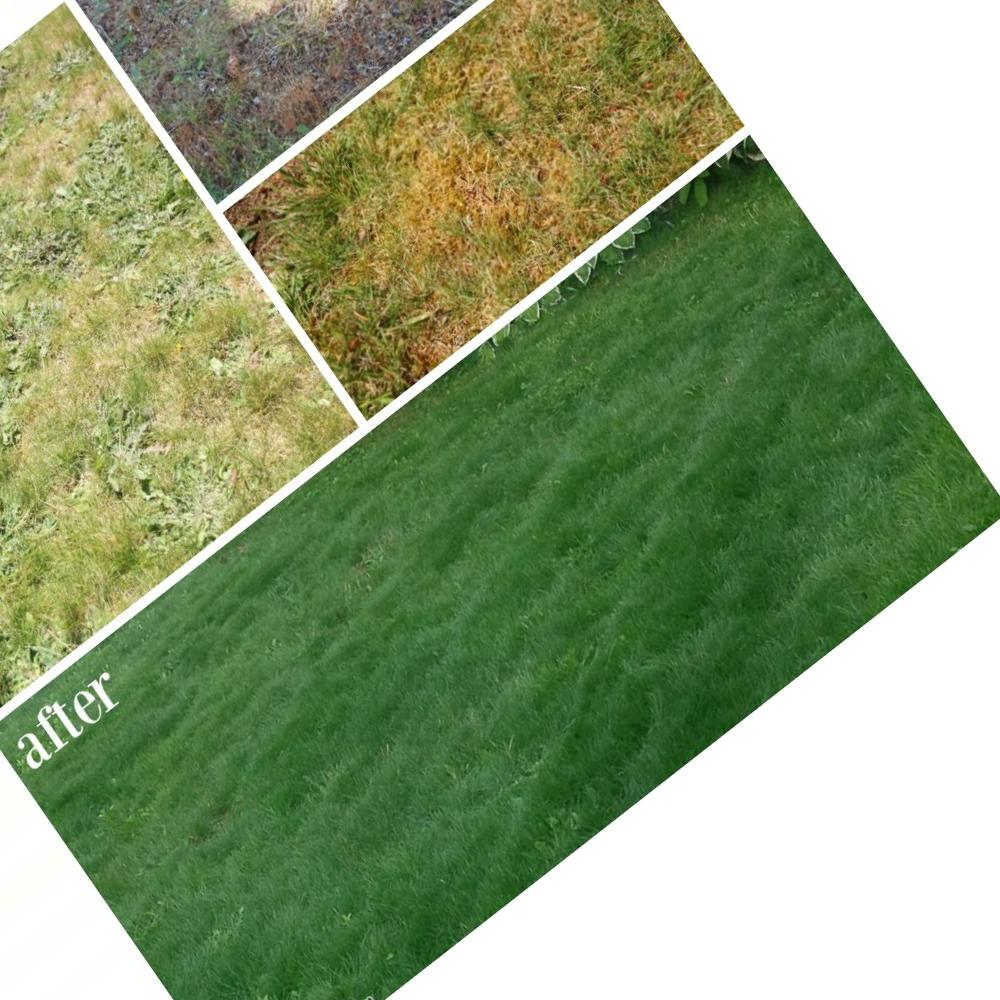patch: (48, 207, 144, 573), (123, 281, 237, 523), (21, 98, 61, 632), (401, 97, 510, 290), (497, 27, 610, 206), (153, 6, 331, 83), (167, 354, 307, 445), (298, 177, 404, 297)
